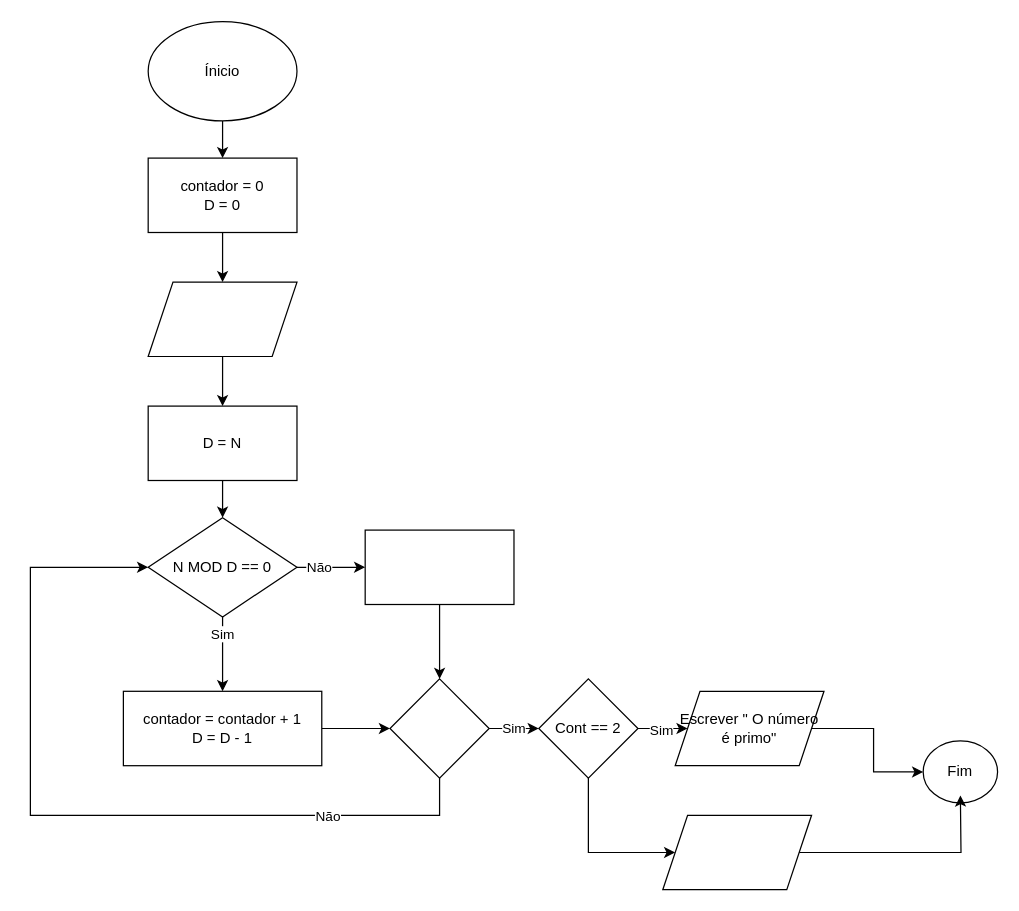
The diagram is 1019 pixels wide and 911 high, and some of its shapes have lost their labels. Here are the shapes that lost their labels. From the top down, the centre of each, then its label:
(222,318): Ler N
(439,566): D = D - 1
(439,728): D == 0
(737,852): Escrever " O número não é primo"
